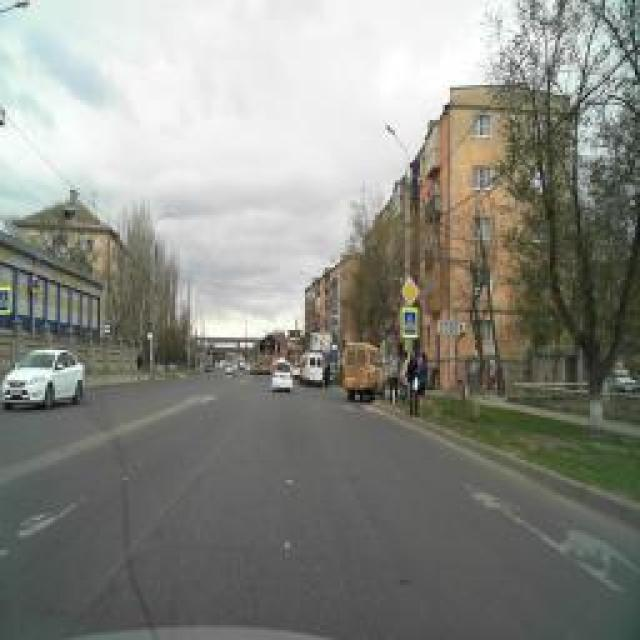sign: (401, 276, 419, 306)
